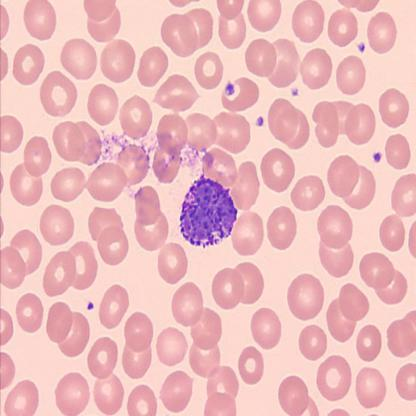Basophil: (177, 171, 240, 251)
